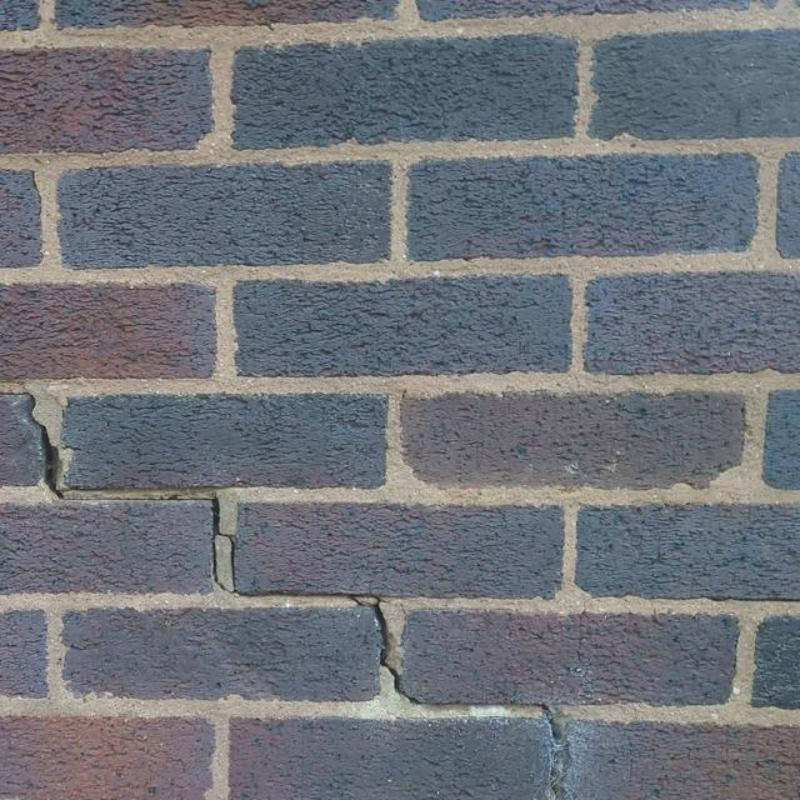crack: (347, 595, 423, 704), (212, 498, 237, 592), (542, 705, 565, 799), (42, 424, 65, 499), (0, 391, 41, 428), (64, 496, 214, 503)
